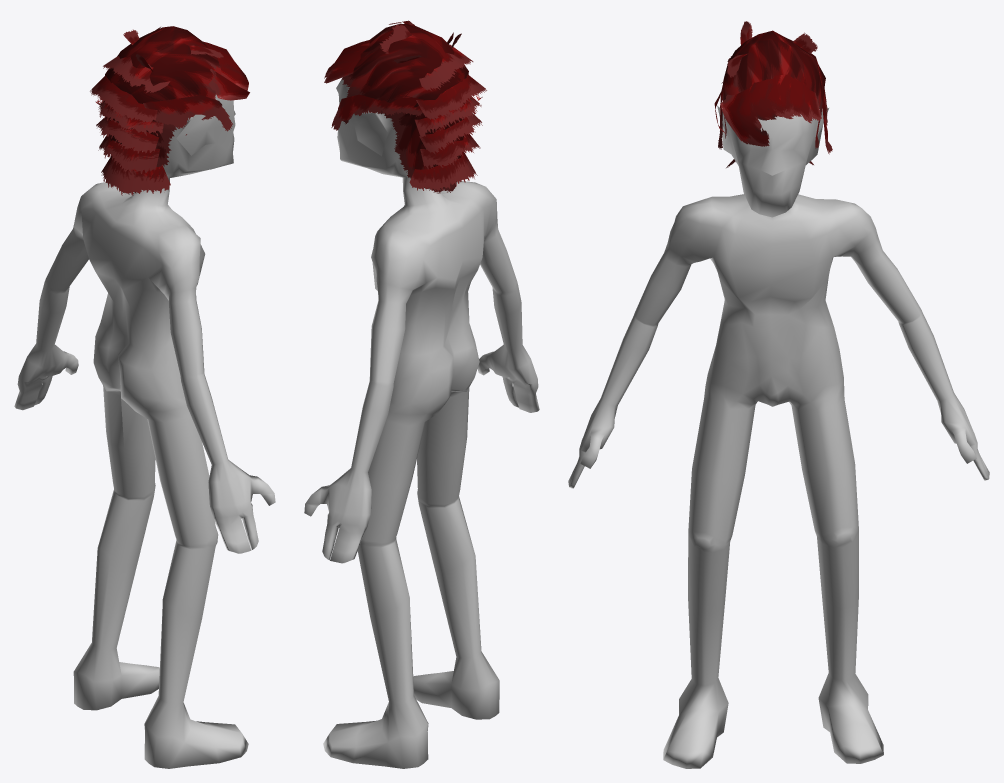
The model's file is character.fbx.
3 renders of one model, left to right at view 1: azimuth 30°, elevation 25°; view 2: azimuth 150°, elevation 25°; view 3: azimuth 270°, elevation 25°, orthographic. The views are drawn at different scales.
Parts seen in each view (by area): view 1: character_body, back, hair, sideburn_R, bangs, tufts; view 2: character_body, hair, back, sideburn_L, bangs, tufts; view 3: character_body, bangs, hair, tufts.
Boxes of the visible parts, box(x1,y1,x2,y2) form: character_body: box(14, 94, 275, 768); back: box(90, 56, 170, 195); hair: box(105, 26, 221, 194); sideburn_R: box(143, 95, 232, 135); bangs: box(203, 41, 249, 100); tufts: box(123, 27, 223, 71); character_body: box(304, 79, 539, 768); hair: box(341, 23, 468, 193); back: box(409, 44, 486, 191); sideburn_L: box(331, 94, 426, 130); bangs: box(324, 40, 370, 83); tufts: box(379, 20, 461, 63); character_body: box(568, 105, 989, 768); bangs: box(714, 74, 821, 146); hair: box(722, 30, 825, 148); tufts: box(726, 21, 817, 77).
Bounding box in the file's own units: 5.49 × 26.27 × 13.8.
